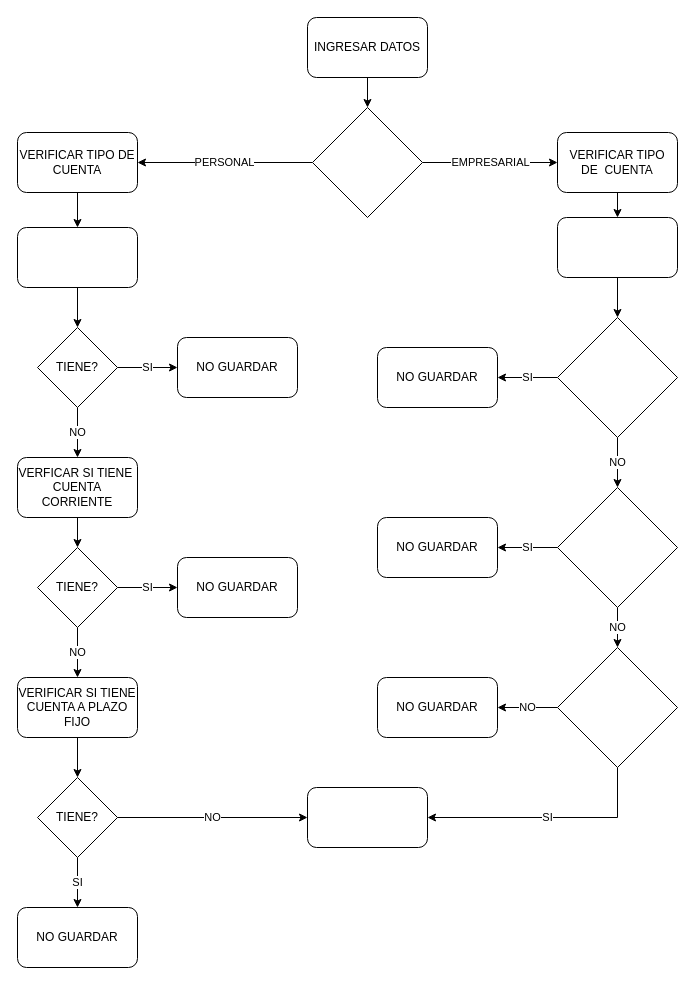
Some shapes in this 695 by 985 pixel diagram are drawn without their labels. Here are the shapes that lost their labels. From the top down, the box of each, then its label:
(312, 106, 422, 218): PERSONAL O EMPRESARIAL
(16, 226, 138, 288): VERIFICAR SI TIENE CUENTA DE AHORROS
(556, 216, 678, 278): VERIFICAR EL TIPO DE CUENTA
(556, 316, 678, 438): ES CUENTA DE AHORROS?
(556, 486, 678, 608): ES PLAZO FIJO?
(556, 646, 678, 768): ES CUENTA CORRIENTE?
(306, 786, 428, 848): GUARDAR CUENTA
